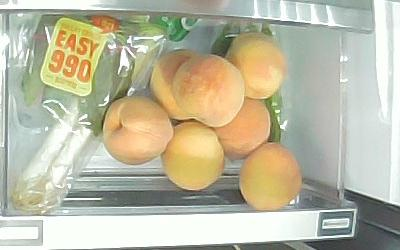peach: (173, 53, 245, 127), (102, 97, 175, 166), (239, 141, 302, 209), (162, 122, 224, 190), (225, 32, 287, 99), (212, 97, 271, 157), (152, 49, 197, 120)
